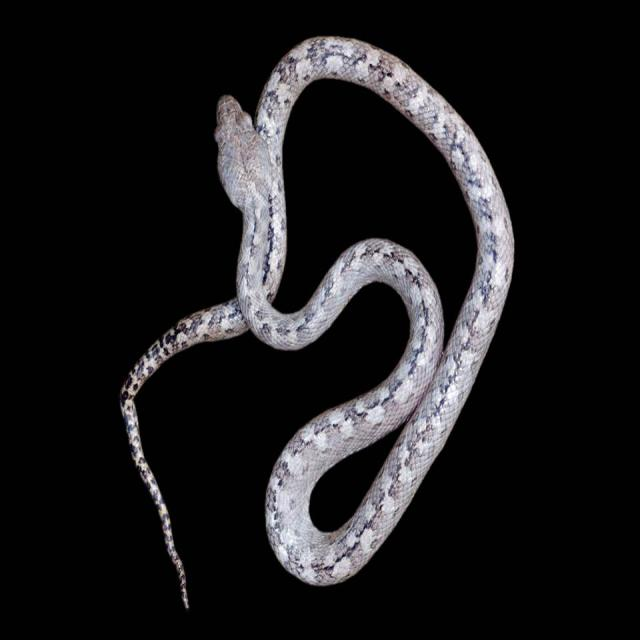Snake: (110, 22, 523, 612)
